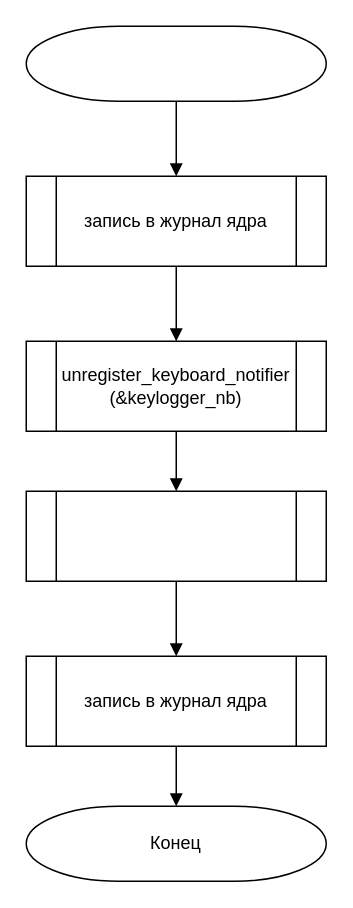
The diagram is 353 pixels wide and 908 high, and some of its shapes have lost their labels. The box of each missing label's shape, as (x1, y1, x2, y2) in pixels:
remove_proc_entry (DEVICE_NAME, NULL): (25, 490, 326, 581)
Начало: (25, 25, 326, 101)
